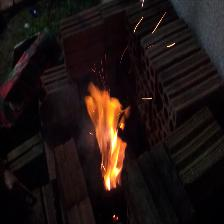smoke: (76, 70, 148, 205)
